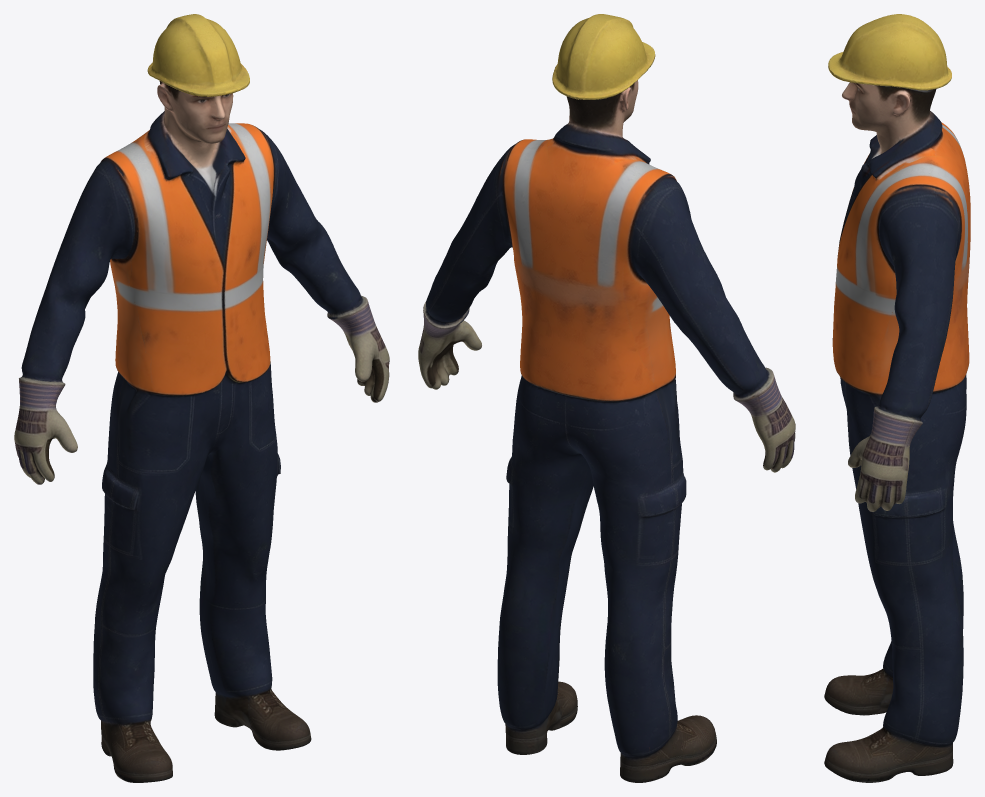
File: mechanic-ppe.glb
3 views of the same model, side by side, from view 1: azimuth 30°, elevation 25°; view 2: azimuth 150°, elevation 25°; view 3: azimuth 270°, elevation 25° (orthographic).
Bounding box in the file's own units: 1 × 1.9 × 0.3492.
Materials: 1 (1 with a texture image).
